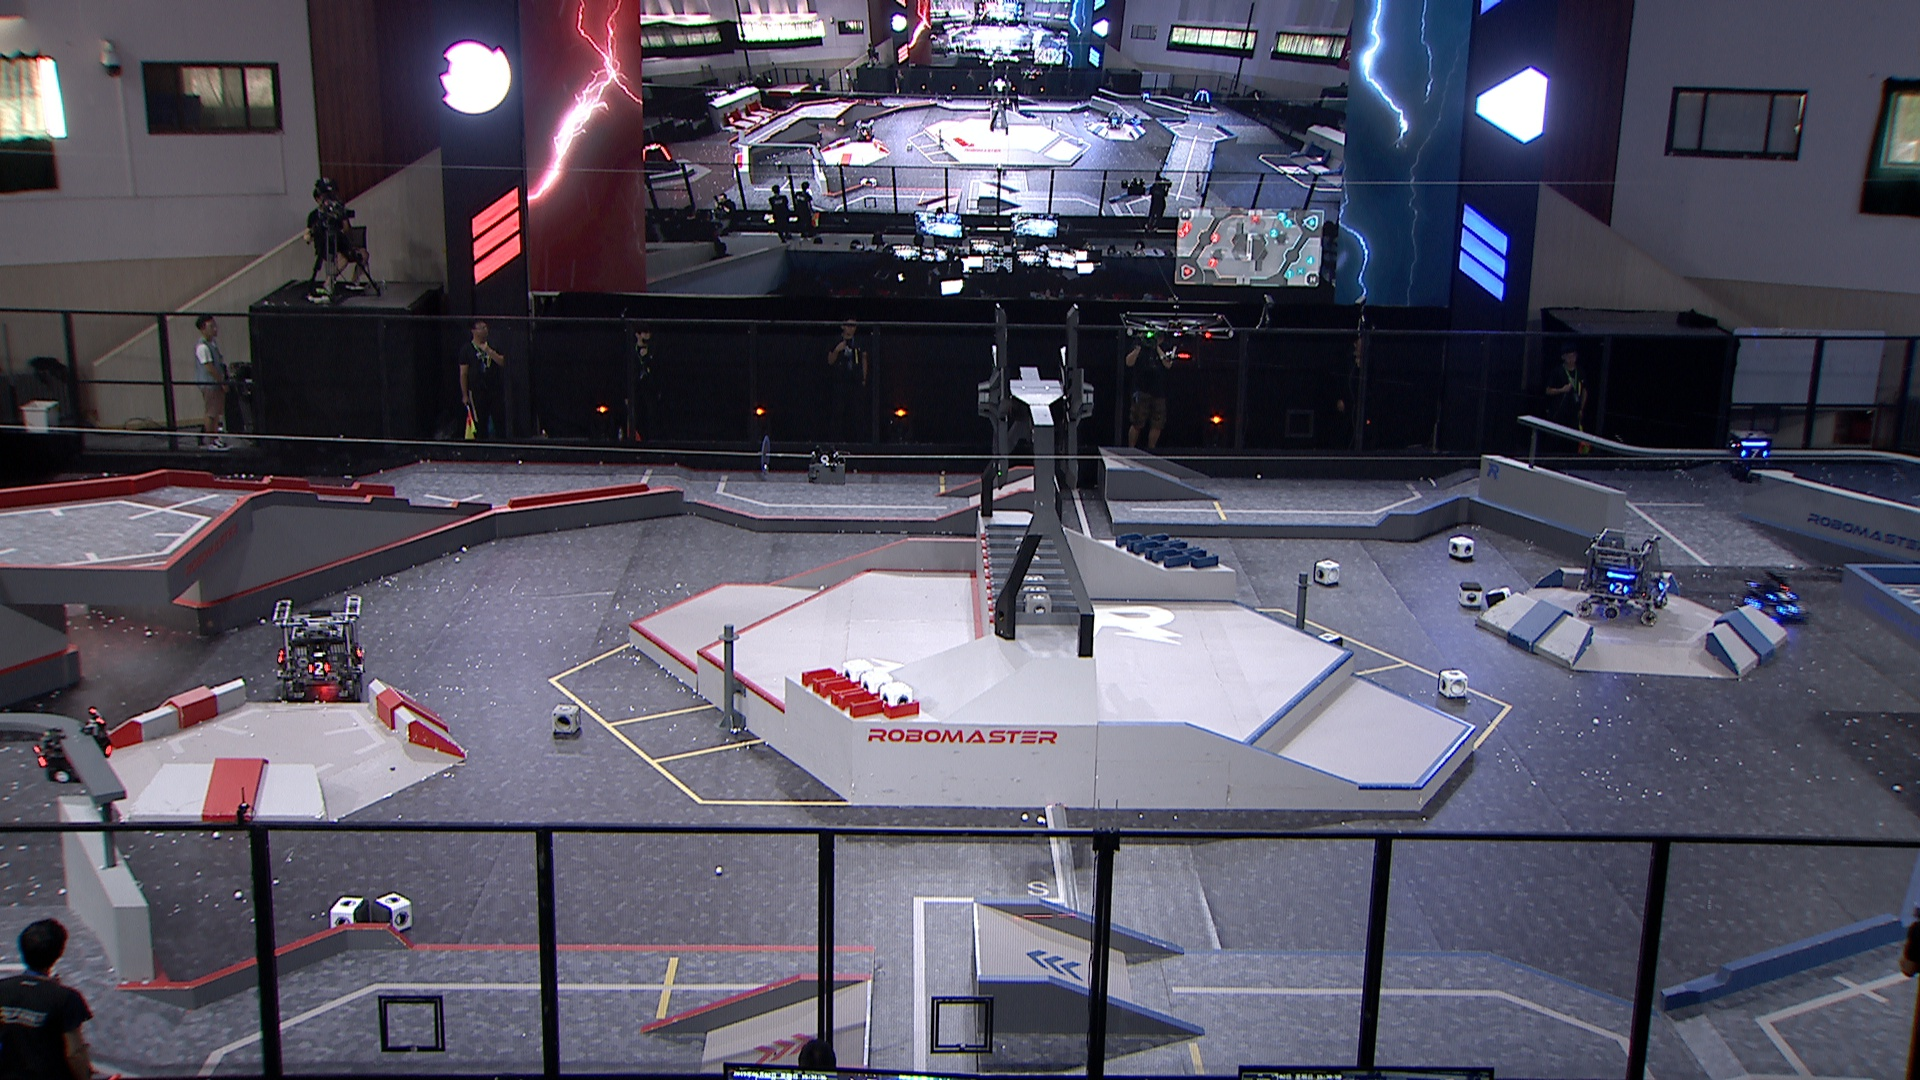armor: (305, 657, 335, 678), (1737, 444, 1770, 463), (32, 742, 53, 770), (1764, 588, 1797, 603), (1607, 578, 1631, 597), (1775, 603, 1803, 617), (1656, 575, 1671, 593)
car: (272, 593, 372, 702), (1575, 522, 1675, 626), (1735, 571, 1815, 624)
ignore: (638, 142, 680, 174), (852, 119, 878, 144), (1188, 87, 1215, 111), (1106, 109, 1125, 131)
watcher: (26, 705, 116, 789), (1722, 433, 1771, 484)
